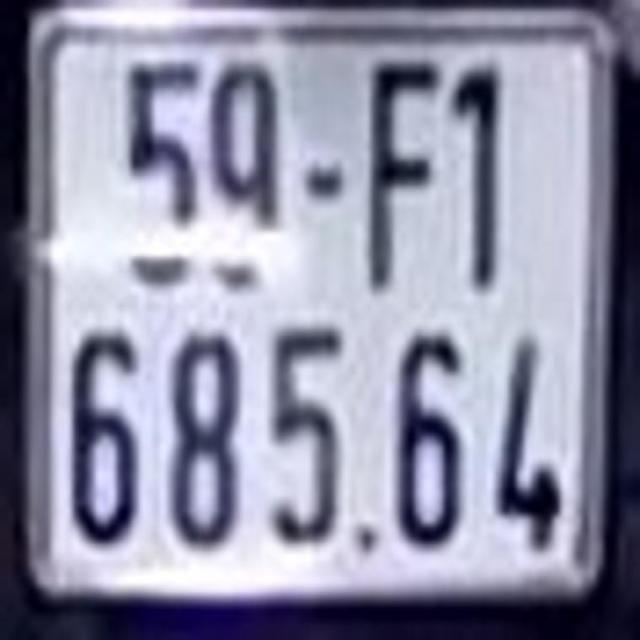1: (449, 59, 503, 296)
4: (494, 328, 568, 551)
5: (119, 57, 203, 281), (266, 315, 345, 544)
6: (395, 324, 465, 542), (69, 328, 139, 538)
8: (165, 327, 246, 546)
9: (208, 58, 286, 292)
F: (365, 50, 442, 296)
